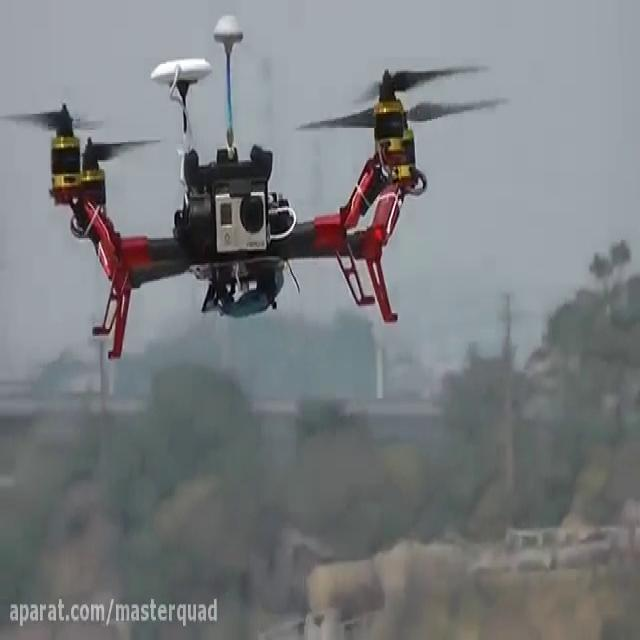drone: (0, 9, 511, 368)
